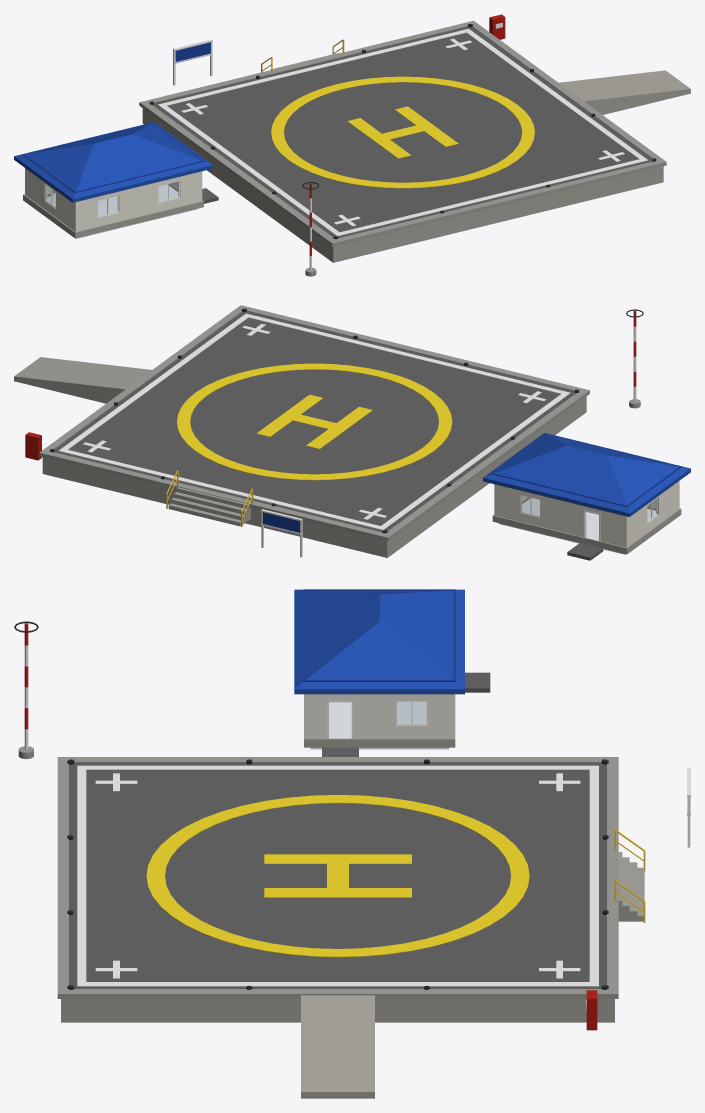
Rendered from SM_Harbor_Heliport.fbx.
The picture shows the model from 3 angles, top to bottom: view 1: azimuth 30°, elevation 25°; view 2: azimuth 150°, elevation 25°; view 3: azimuth 270°, elevation 25°; orthographic projection. The views are drawn at different scales.
Parts seen in each view (by area): view 1: SM_Harbor_Heliport; view 2: SM_Harbor_Heliport; view 3: SM_Harbor_Heliport.
Part boxes in pixels (box(x1,y1,x2,y2)): SM_Harbor_Heliport: box(14, 14, 690, 276); SM_Harbor_Heliport: box(14, 305, 690, 560); SM_Harbor_Heliport: box(14, 589, 690, 1098).
Bounding box in the file's own units: 45.1 × 6.7 × 29.33.
